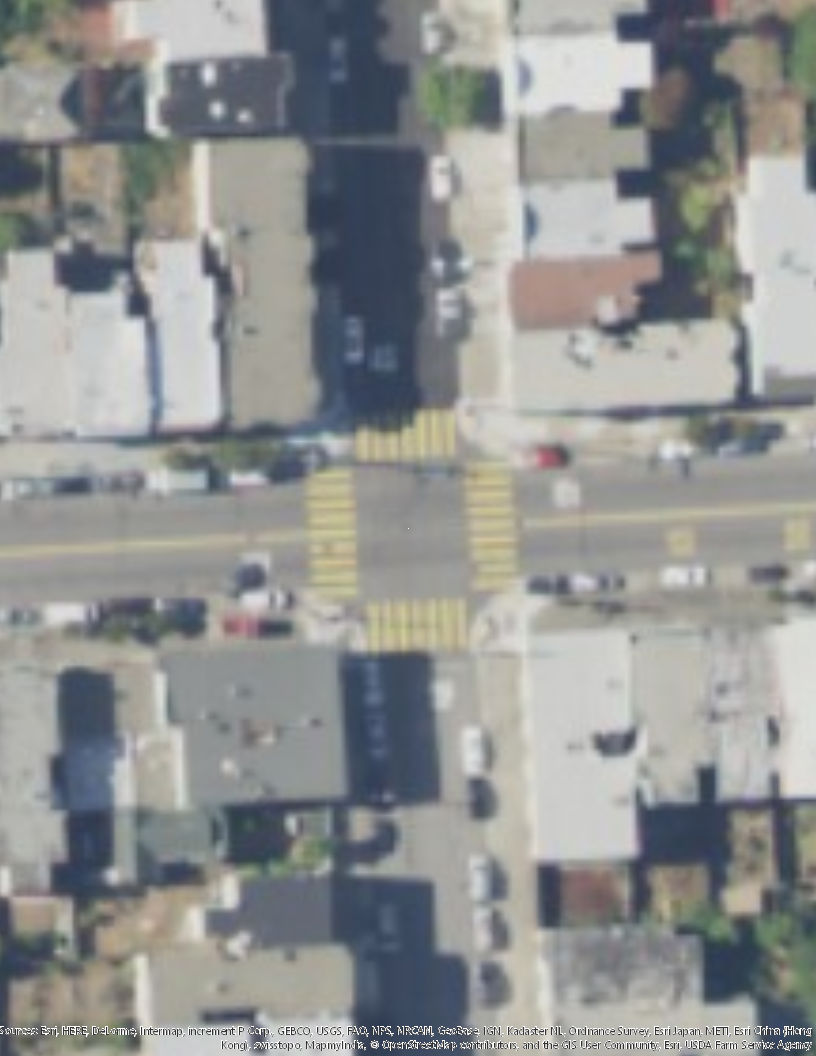zebracross: (463, 463, 523, 585), (304, 469, 358, 600), (356, 404, 459, 463), (367, 599, 471, 651)
